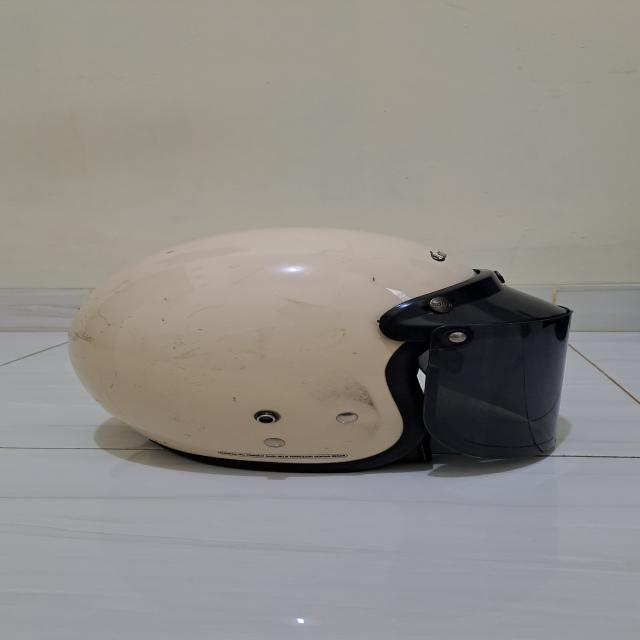Helm: (58, 218, 578, 478)
